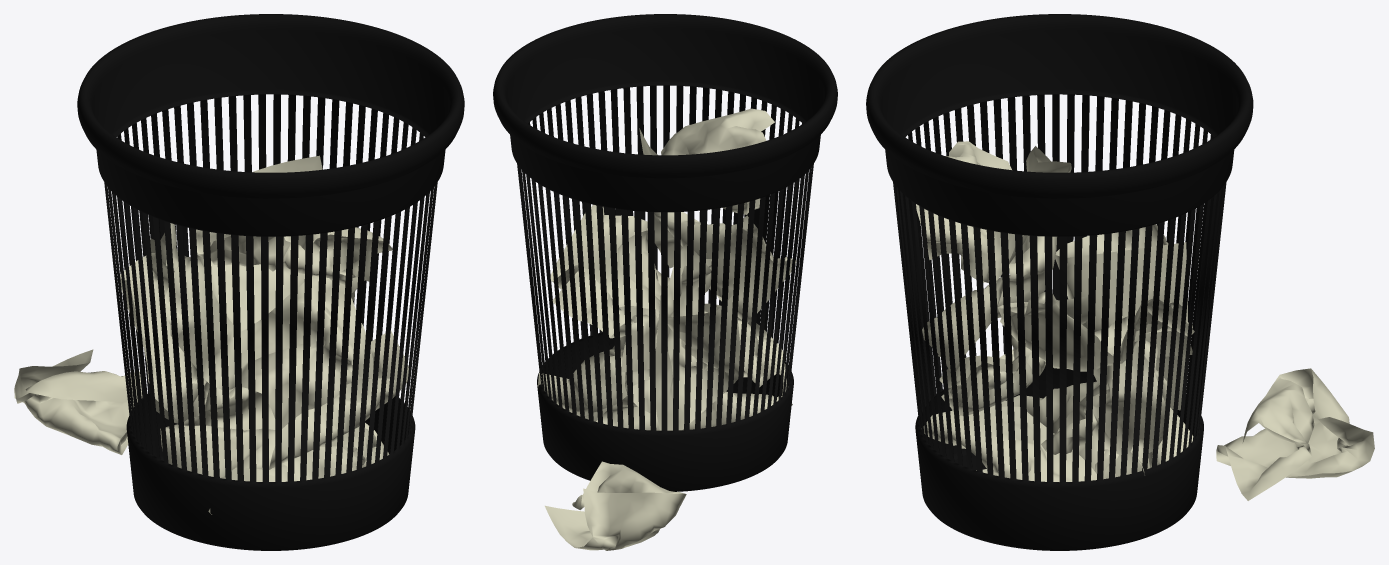
Rendered from WastepaperBasket.FBX.
The picture shows the model from 3 angles, left to right: view 1: azimuth 30°, elevation 25°; view 2: azimuth 150°, elevation 25°; view 3: azimuth 270°, elevation 25°; orthographic projection. The views are drawn at different scales.
Parts seen in each view (by area): view 1: Basket, Paper09, Paper01, Paper06, Paper08, Paper07, Paper02; view 2: Basket, Paper01, Paper05, Paper07, Paper09, Paper08, Paper03, Paper04, Paper06; view 3: Basket, Paper01, Paper07, Paper05, Paper03, Paper02, Paper08, Paper09, Paper06, Paper04.
Part boxes in pixels (<box>): Basket: <box>77,14,464,550</box>; Paper09: <box>164,255,373,428</box>; Paper01: <box>14,349,142,454</box>; Paper06: <box>160,330,408,477</box>; Paper08: <box>196,155,392,284</box>; Paper07: <box>120,223,206,423</box>; Paper02: <box>256,423,389,481</box>; Basket: <box>493,14,837,491</box>; Paper01: <box>545,461,686,550</box>; Paper05: <box>550,204,661,372</box>; Paper07: <box>655,244,739,430</box>; Paper09: <box>654,212,796,323</box>; Paper08: <box>639,108,774,214</box>; Paper03: <box>537,335,656,416</box>; Paper04: <box>585,391,792,430</box>; Paper06: <box>655,269,786,395</box>; Basket: <box>866,14,1253,550</box>; Paper01: <box>1216,368,1374,500</box>; Paper07: <box>1055,224,1187,410</box>; Paper05: <box>997,292,1194,371</box>; Paper03: <box>1041,340,1167,479</box>; Paper02: <box>921,405,1096,481</box>; Paper08: <box>916,141,1071,282</box>; Paper09: <box>922,235,1056,371</box>; Paper06: <box>939,335,1045,415</box>; Paper04: <box>961,381,1193,475</box>.
Size of the model in its own units: 438 by 576 by 503.
